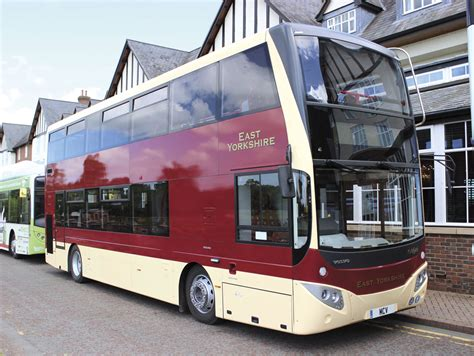bus: (49, 30, 428, 332)
